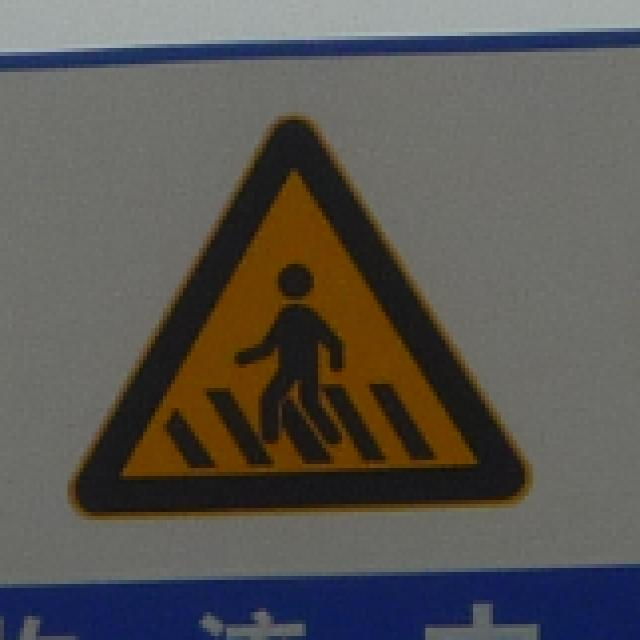Crossing: (44, 111, 555, 523)
